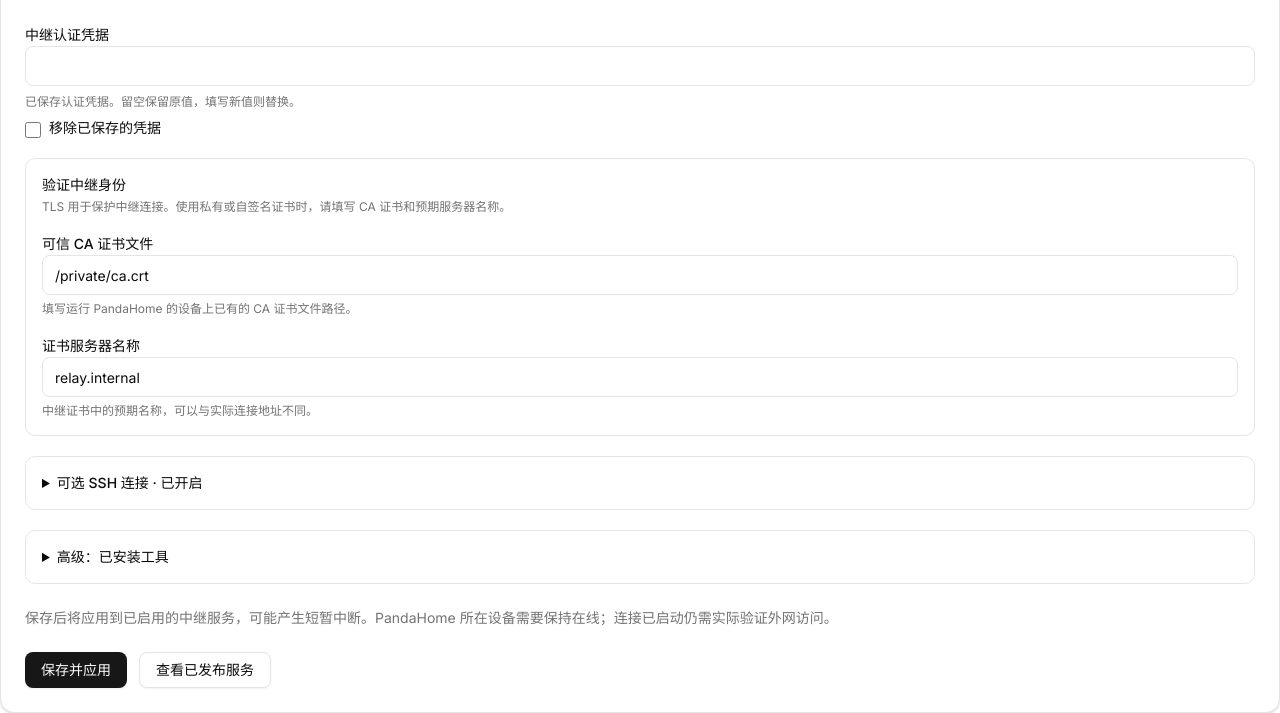
Test: managed relay settings (zh) › saves a complete profile without replacing a token from an empty password field
This screenshot has width=1280, height=713.
(page scrolled)
Expected: the password field labelled "中继认证凭据" is empty, [25,46,1255,86]
Expected: the text "已保存认证凭据。留空保留原值，填写新值则替换。" is shown, [25,94,301,109]
Click the button "保存并应用" at {"x": 76, "y": 670}, box [25,652,127,688]
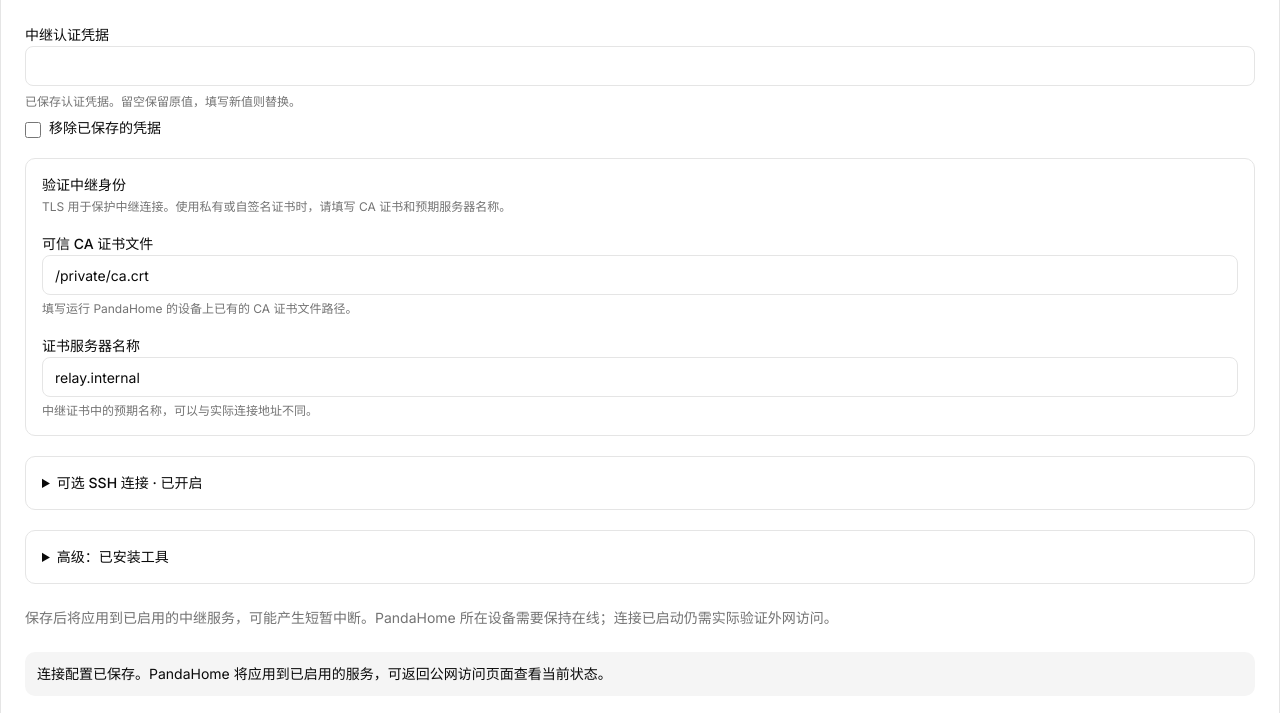
Expected: the message "连接配置已保存。PandaHome 将应用到已启用的服务，可返回公网访问页面查看当前状态。" is shown, [25,652,1255,696]
